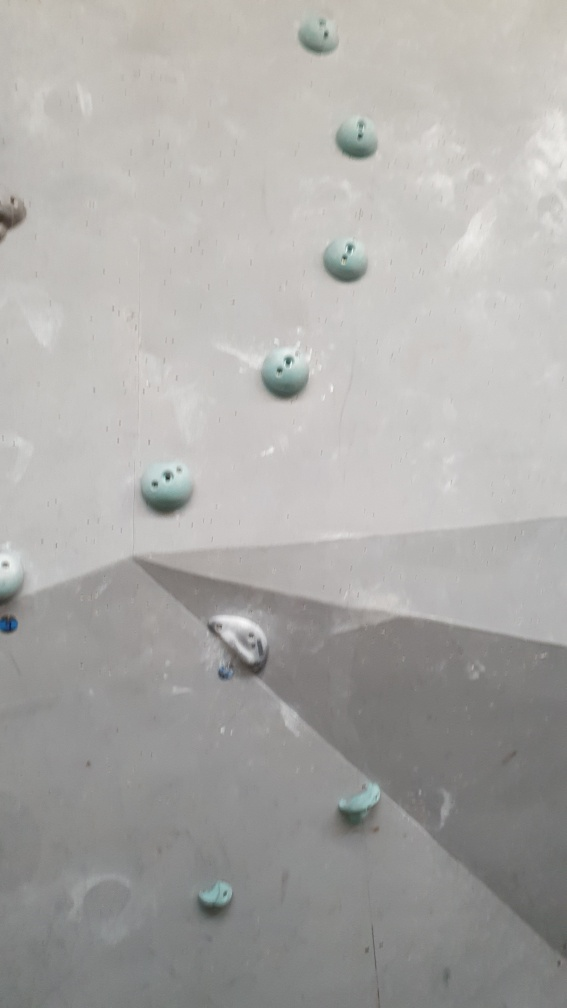Hand Start: (1, 611, 20, 637), (217, 661, 235, 681)
Jug: (337, 778, 386, 831)
Sloper: (140, 453, 196, 518), (258, 343, 311, 403), (333, 106, 386, 164), (319, 229, 370, 287), (297, 15, 341, 55), (1, 544, 27, 606)
